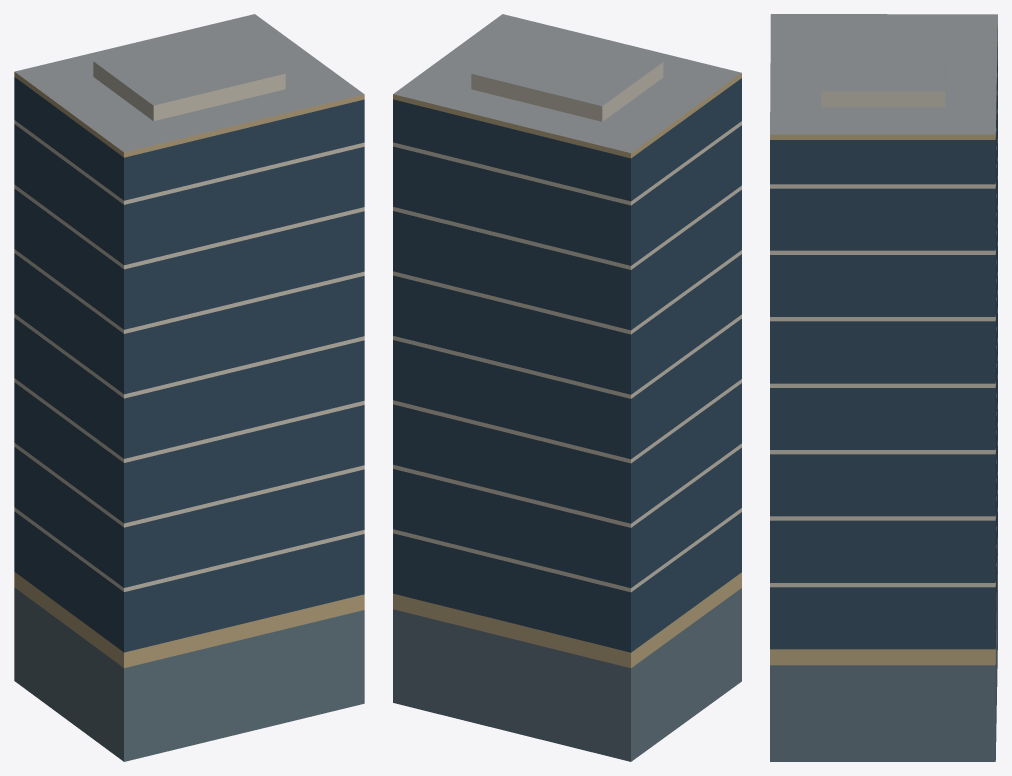
The model's file is 111_main.glb.
The picture shows the model from 3 angles, left to right: view 1: azimuth 30°, elevation 25°; view 2: azimuth 150°, elevation 25°; view 3: azimuth 270°, elevation 25°; orthographic projection. The views are drawn at different scales.
Visible parts, largest first — view 1: 111_Main; view 2: 111_Main; view 3: 111_Main.
Boxes of the visible parts, x1,y1,x2,y2 form: 111_Main: [14, 14, 364, 761]; 111_Main: [393, 14, 741, 761]; 111_Main: [770, 14, 997, 761].
Bounding box in the file's own units: 48.22 × 120 × 38.53.
